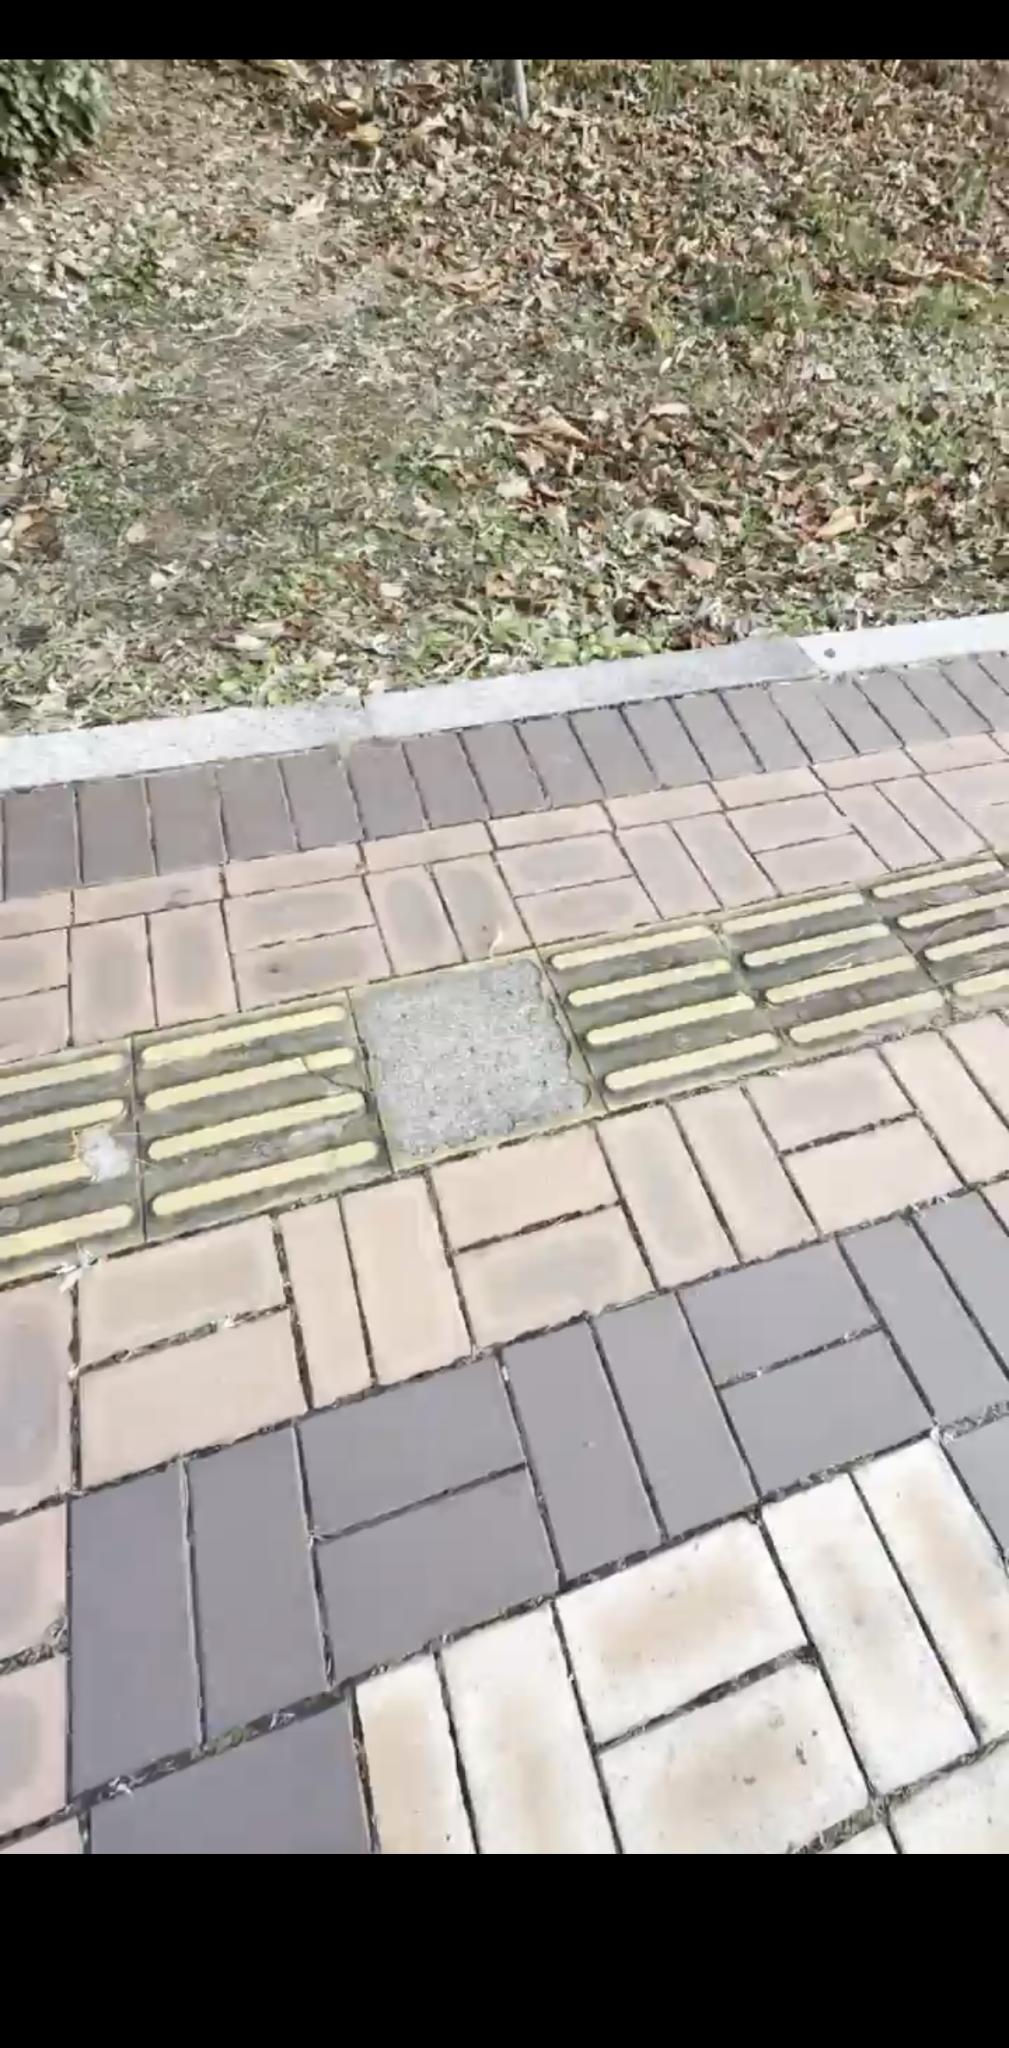Straight block broken: (349, 950, 607, 1173)
Straight block normal: (134, 994, 393, 1240), (539, 917, 792, 1112), (706, 884, 957, 1062)
